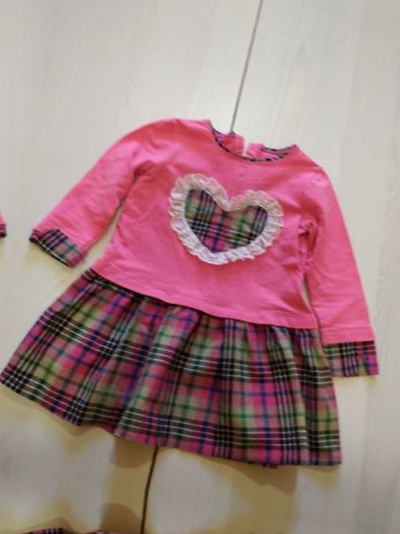Dress: (0, 78, 399, 493), (0, 16, 38, 430), (0, 493, 327, 534)
